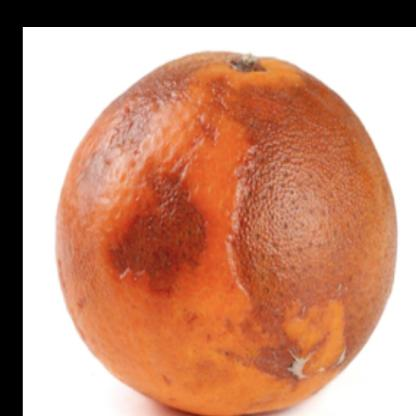rotten: (53, 51, 398, 416)
